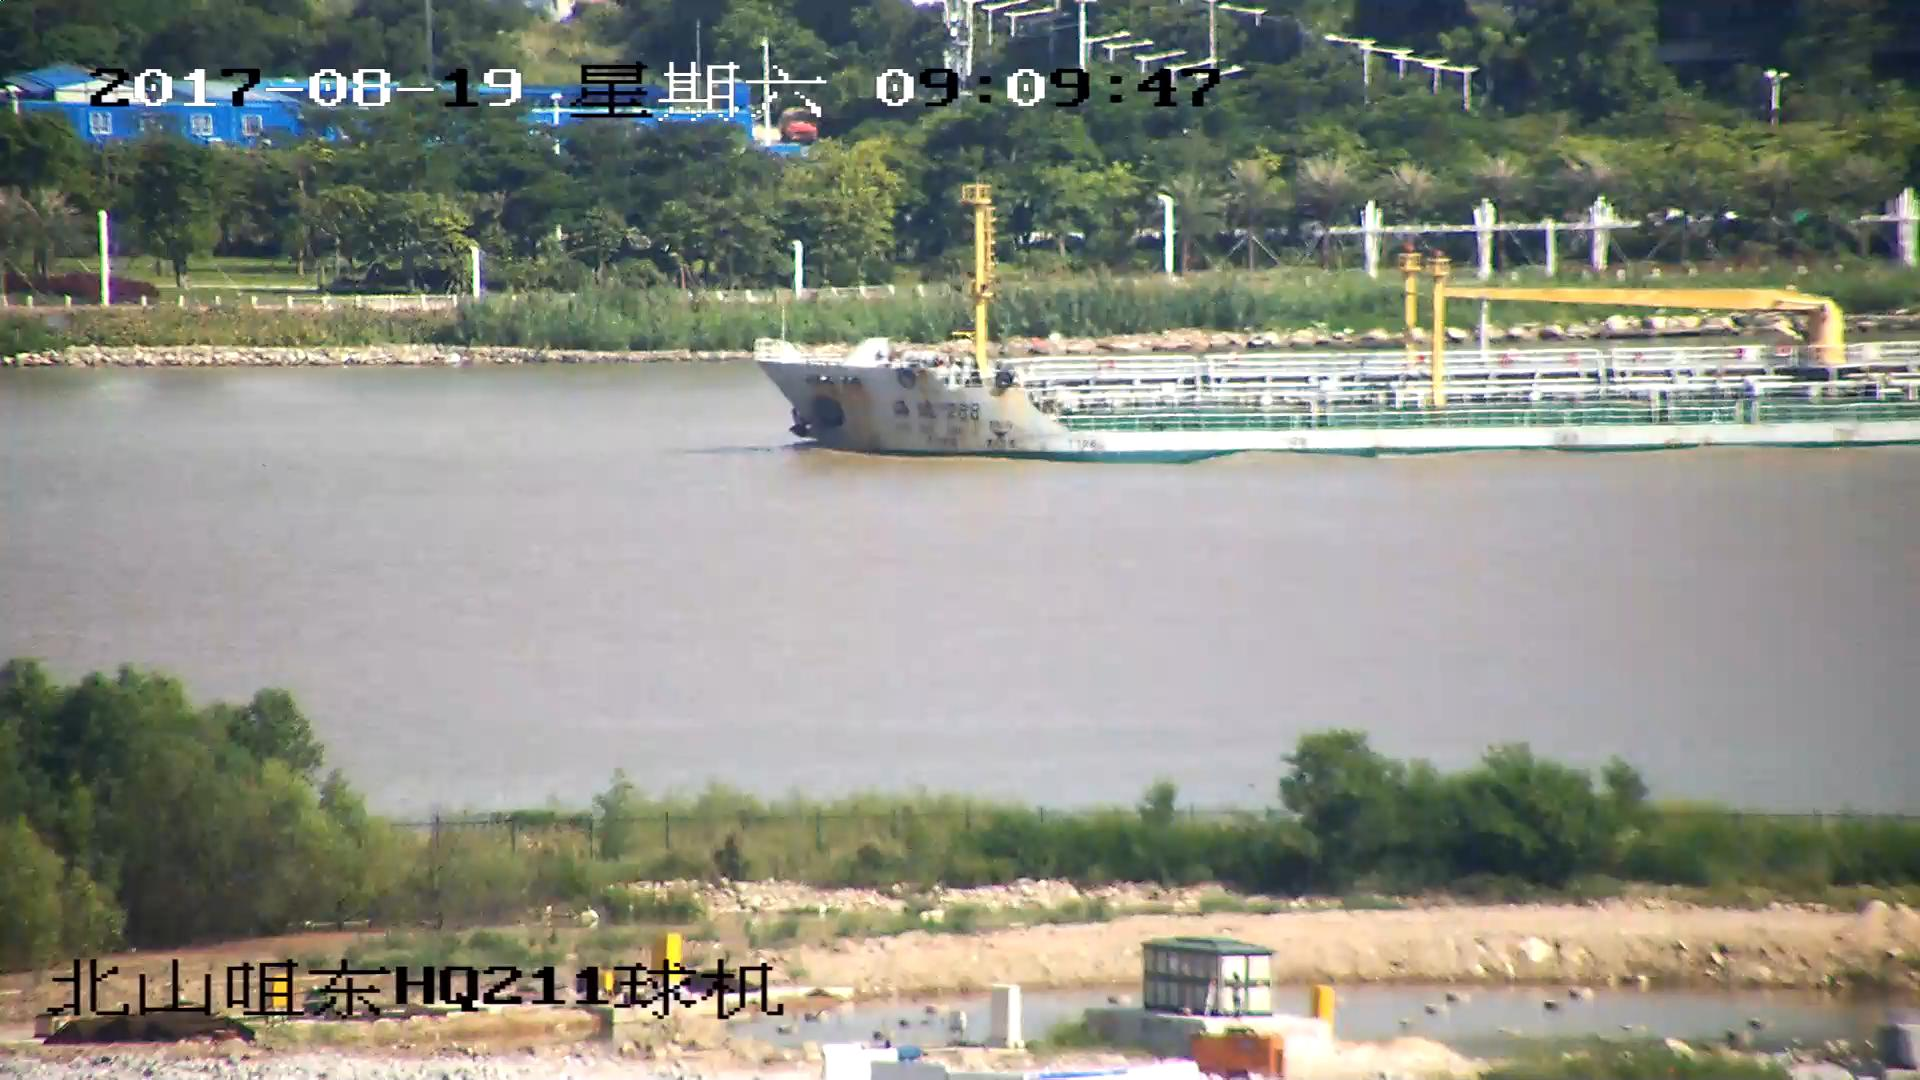general cargo ship: (745, 208, 1920, 454)
